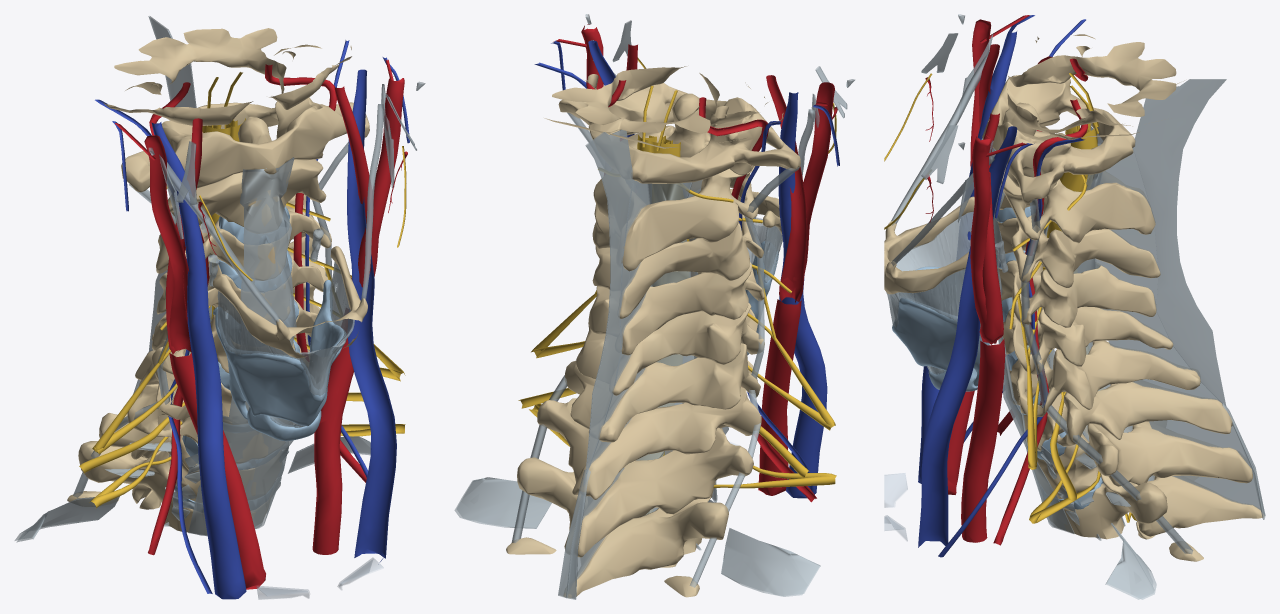
File: joint-neck.714aa225.glb
3 views of the same model, side by side, from view 1: azimuth 30°, elevation 25°; view 2: azimuth 150°, elevation 25°; view 3: azimuth 270°, elevation 25° (orthographic). The views are drawn at different scales.
Parts seen in each view (by area): view 1: Ligament_AnteriorLongitudinalLigament_Right, Vessel_InternalJugularVein_Right, Vessel_InternalJugularVein_Left, Bone_AtlasC1_Right, Bone_OccipitalBone_Right, Cartilage_ThyroidCartilage_Right, Vessel_CommonCarotidArtery_Left, Bone_AxisC2_Right, Vessel_CommonCarotidArtery_Right, Vessel_ExternalCarotidArtery_Right, object 78, Bone_HyoidBone_Right (+31 smaller); view 2: Bone_VertebraT1_Right, Bone_VertebraT2_Right, Bone_AtlasC1_Right, Bone_AxisC2_Right, Bone_VertebraC7_Right, Bone_VertebraC6_Right, Ligament_NuchalLigament_Right, Bone_VertebraC5_Right, Bone_VertebraC4_Right, Bone_VertebraC3_Right, Vessel_InternalJugularVein_Right, Bone_OccipitalBone_Right (+20 smaller); view 3: Ligament_NuchalLigament_Right, Bone_VertebraT1_Right, Bone_AtlasC1_Right, Vessel_InternalJugularVein_Left, Ligament_InterspinousLigaments_Right, Bone_VertebraT2_Right, Bone_VertebraC7_Right, Bone_AxisC2_Right, Bone_OccipitalBone_Right, Bone_VertebraC6_Right, Bone_VertebraC4_Right, Bone_VertebraC3_Right (+28 smaller).
Part boxes in pixels (x1,y1,x2,y2): Ligament_AnteriorLongitudinalLigament_Right: (188, 157, 296, 535); Vessel_InternalJugularVein_Right: (151, 122, 246, 599); Vessel_InternalJugularVein_Left: (347, 69, 396, 562); Bone_AtlasC1_Right: (121, 97, 369, 192); Bone_OccipitalBone_Right: (103, 28, 351, 125); Cartilage_ThyroidCartilage_Right: (215, 280, 346, 426); Vessel_CommonCarotidArtery_Left: (312, 338, 353, 554); Bone_AxisC2_Right: (168, 116, 326, 226); Vessel_CommonCarotidArtery_Right: (169, 353, 265, 589); Vessel_ExternalCarotidArtery_Right: (144, 135, 189, 350); object 78: (79, 321, 185, 508); Bone_HyoidBone_Right: (212, 246, 367, 358); Bone_VertebraT1_Right: (537, 398, 753, 557); Bone_VertebraT2_Right: (517, 457, 728, 598); Bone_AtlasC1_Right: (558, 83, 800, 183); Bone_AxisC2_Right: (593, 93, 758, 271); Bone_VertebraC7_Right: (565, 354, 761, 499); Bone_VertebraC6_Right: (576, 322, 760, 442); Ligament_NuchalLigament_Right: (585, 129, 633, 474); Bone_VertebraC5_Right: (588, 286, 764, 395); Bone_VertebraC4_Right: (592, 246, 764, 355); Bone_VertebraC3_Right: (592, 204, 763, 318); Vessel_InternalJugularVein_Right: (778, 92, 827, 498); Bone_OccipitalBone_Right: (544, 66, 783, 148); Ligament_NuchalLigament_Right: (1133, 79, 1226, 407); Bone_VertebraT1_Right: (1037, 421, 1252, 498); Bone_AtlasC1_Right: (982, 75, 1135, 203); Vessel_InternalJugularVein_Left: (918, 126, 1017, 547); Ligament_InterspinousLigaments_Right: (1095, 143, 1265, 515); Bone_VertebraT2_Right: (1043, 473, 1264, 539); Bone_VertebraC7_Right: (1023, 382, 1232, 451); Bone_AxisC2_Right: (1000, 102, 1155, 243); Bone_OccipitalBone_Right: (1007, 34, 1184, 139); Bone_VertebraC6_Right: (1009, 340, 1200, 416); Bone_VertebraC4_Right: (997, 233, 1156, 327); Bone_VertebraC3_Right: (993, 215, 1160, 287).
Size of the model in its own units: 0.1255 by 0.1512 by 0.1199.
